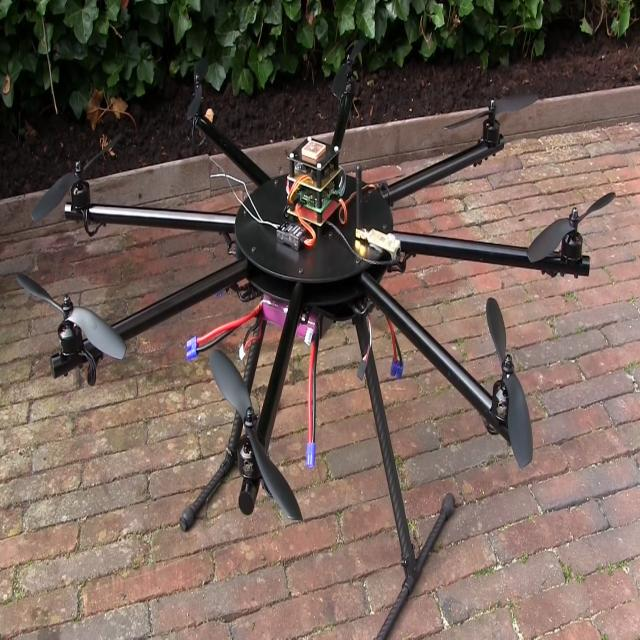drone: (17, 70, 623, 626)
